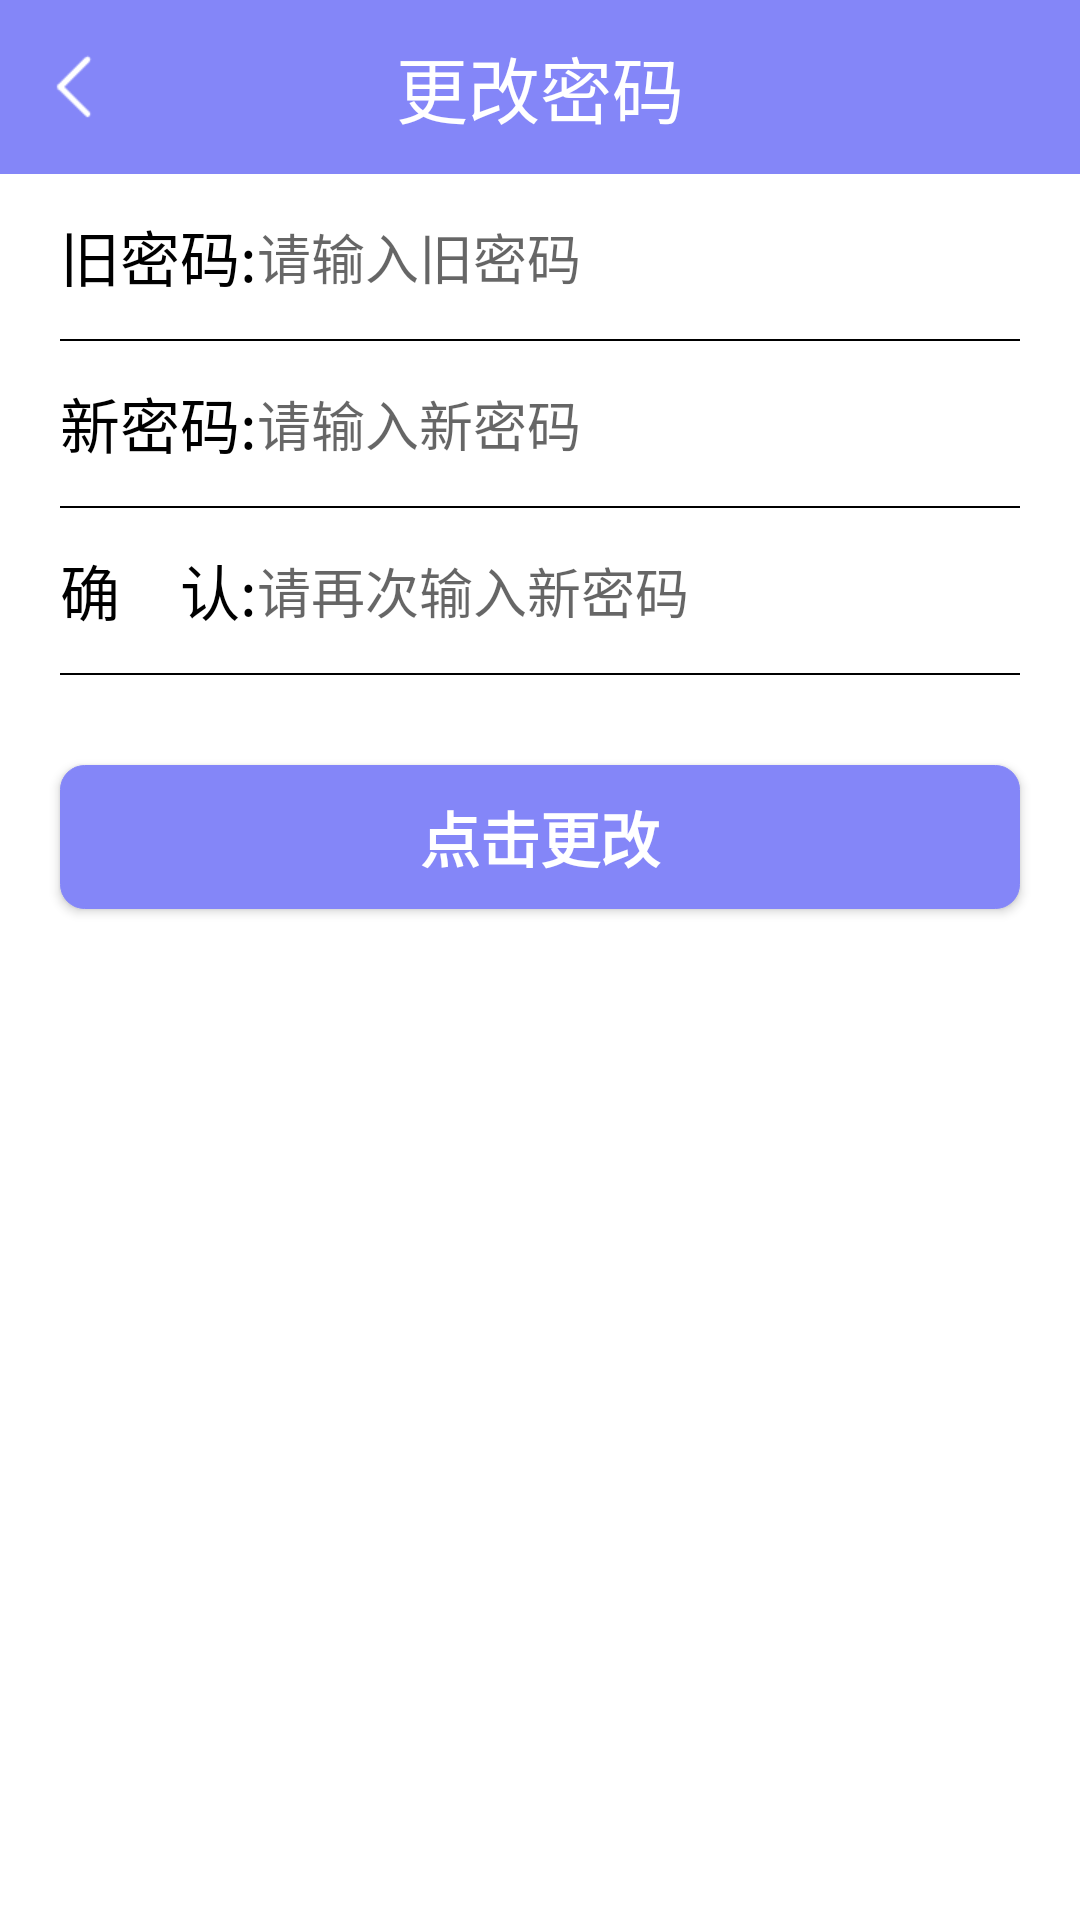

Where to tap for icons on this 1080x1920 app screen, as (x,y):
back: (74,86)
